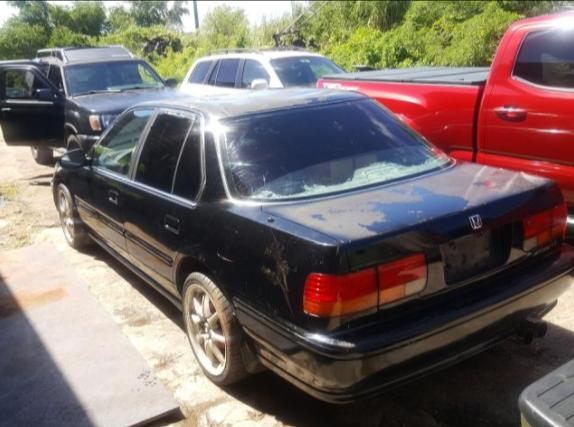Flaking: (266, 161, 549, 238), (407, 206, 436, 225)
Missing part: (443, 225, 512, 283)
Paint chip: (265, 242, 296, 307)
